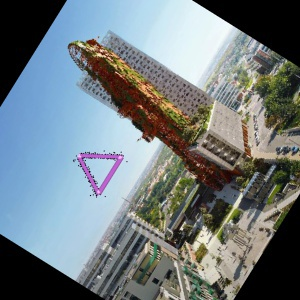triangle: (71, 149, 128, 198)
